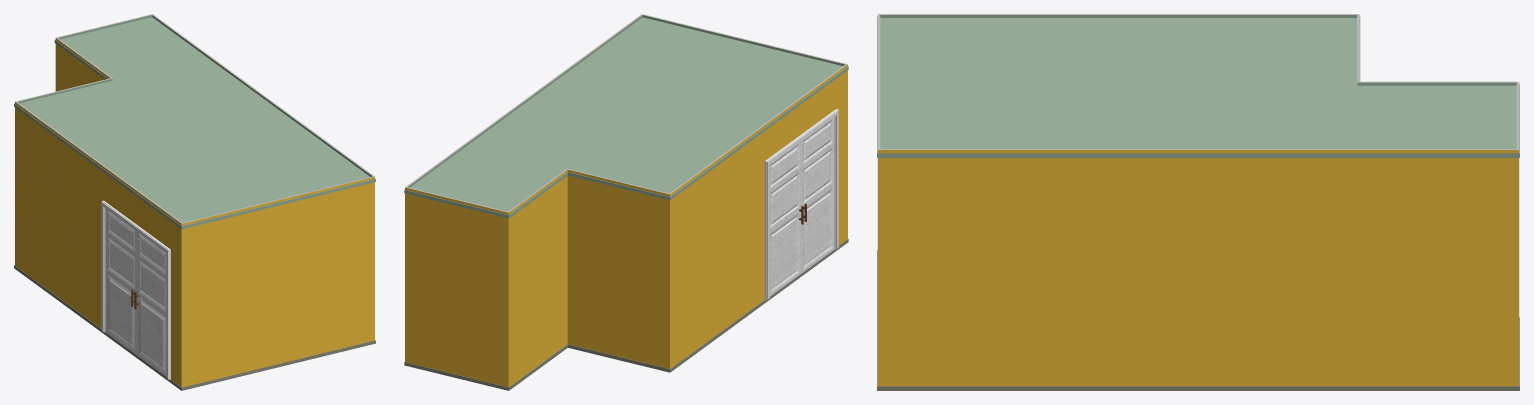
File: ProcTHOR-Train-192.glb
The picture shows the model from 3 angles, left to right: view 1: azimuth 30°, elevation 25°; view 2: azimuth 150°, elevation 25°; view 3: azimuth 270°, elevation 25°; orthographic projection. The views are drawn at different scales.
Parts seen in each view (by area): view 1: Ceiling#room|2|c, WallInside#wall|exterior|0.00|6.49|3.24|6.49, WallInside#wall|exterior|3.24|1.62|3.24|6.49, Doorway_Door_8b, Doorway_Door_8a, Doorway_Double_8, WallInside#wall|exterior|1.62|0.00|1.62|1.62, Floor#room|2|f, WallInside#wall|2|0.00|0.00|0.00|6.49; view 2: Ceiling#room|2|c, WallInside#wall|exterior|3.24|1.62|3.24|6.49, WallInside#wall|exterior|0.00|0.00|1.62|0.00, WallInside#wall|exterior|1.62|1.62|3.24|1.62, WallInside#wall|exterior|1.62|0.00|1.62|1.62, Doorway_Door_8a, Doorway_Door_8b, Doorway_Double_8, Floor#room|2|f, WallInside#wall|2|0.00|0.00|0.00|6.49, WallInside#wall|2|0.00|6.49|3.24|6.49; view 3: WallInside#wall|exterior|0.00|0.00|0.00|6.49, Ceiling#room|2|c, Floor#room|2|f, WallInside#wall|2|3.24|1.62|3.24|6.49, WallInside#wall|2|1.62|0.00|1.62|1.62, WallInside#wall|2|0.00|0.00|0.00|6.49.
Part boxes in pixels (x1=…): Ceiling#room|2|c: x1=14, y1=17, x2=375, y2=229; WallInside#wall|exterior|0.00|6.49|3.24|6.49: x1=182, y1=176, x2=374, y2=387; WallInside#wall|exterior|3.24|1.62|3.24|6.49: x1=15, y1=101, x2=181, y2=387; Doorway_Door_8b: x1=105, y1=208, x2=136, y2=354; Doorway_Door_8a: x1=136, y1=231, x2=166, y2=376; Doorway_Double_8: x1=101, y1=200, x2=170, y2=379; WallInside#wall|exterior|1.62|0.00|1.62|1.62: x1=55, y1=37, x2=111, y2=91; Floor#room|2|f: x1=14, y1=265, x2=375, y2=390; WallInside#wall|2|0.00|0.00|0.00|6.49: x1=152, y1=15, x2=373, y2=176; Ceiling#room|2|c: x1=404, y1=17, x2=848, y2=218; WallInside#wall|exterior|3.24|1.62|3.24|6.49: x1=670, y1=64, x2=847, y2=368; WallInside#wall|exterior|0.00|0.00|1.62|0.00: x1=405, y1=187, x2=508, y2=387; WallInside#wall|exterior|1.62|1.62|3.24|1.62: x1=567, y1=169, x2=669, y2=368; WallInside#wall|exterior|1.62|0.00|1.62|1.62: x1=508, y1=169, x2=567, y2=386; Doorway_Door_8a: x1=801, y1=117, x2=834, y2=273; Doorway_Door_8b: x1=770, y1=141, x2=801, y2=296; Doorway_Double_8: x1=764, y1=109, x2=838, y2=299; Floor#room|2|f: x1=404, y1=238, x2=848, y2=390; WallInside#wall|2|0.00|0.00|0.00|6.49: x1=406, y1=14, x2=642, y2=187; WallInside#wall|2|0.00|6.49|3.24|6.49: x1=641, y1=14, x2=846, y2=65; WallInside#wall|exterior|0.00|0.00|0.00|6.49: x1=878, y1=149, x2=1518, y2=386; Ceiling#room|2|c: x1=877, y1=16, x2=1519, y2=157; Floor#room|2|f: x1=877, y1=250, x2=1519, y2=390; WallInside#wall|2|3.24|1.62|3.24|6.49: x1=878, y1=14, x2=1358, y2=17; WallInside#wall|2|1.62|0.00|1.62|1.62: x1=1357, y1=82, x2=1518, y2=85; WallInside#wall|2|0.00|0.00|0.00|6.49: x1=878, y1=149, x2=1518, y2=149.
Size of the model in its own units: 3.35 by 2.7 by 6.53.
Materials: 45 (9 with a texture image).
